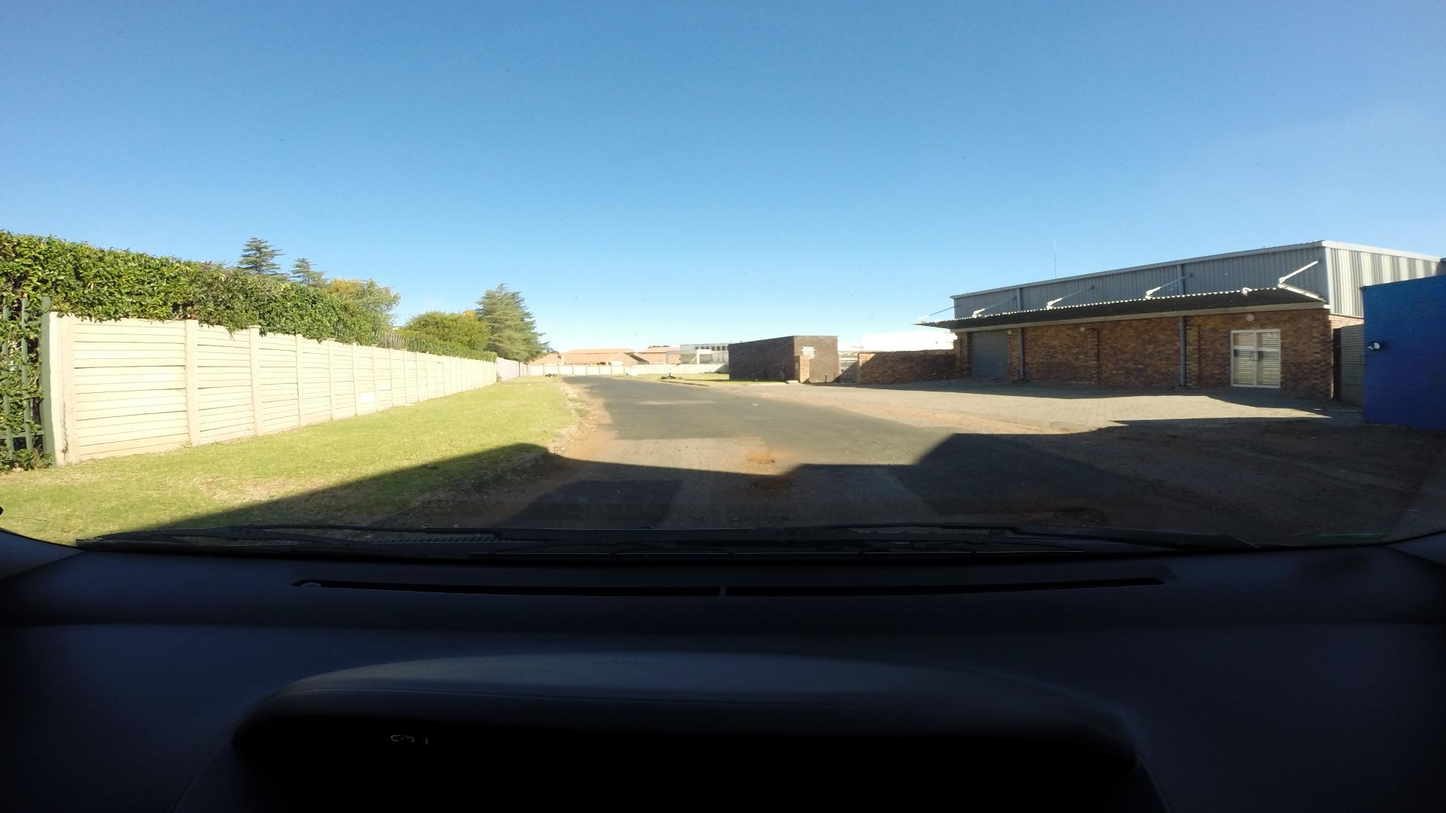pothole: (748, 449, 774, 464)
